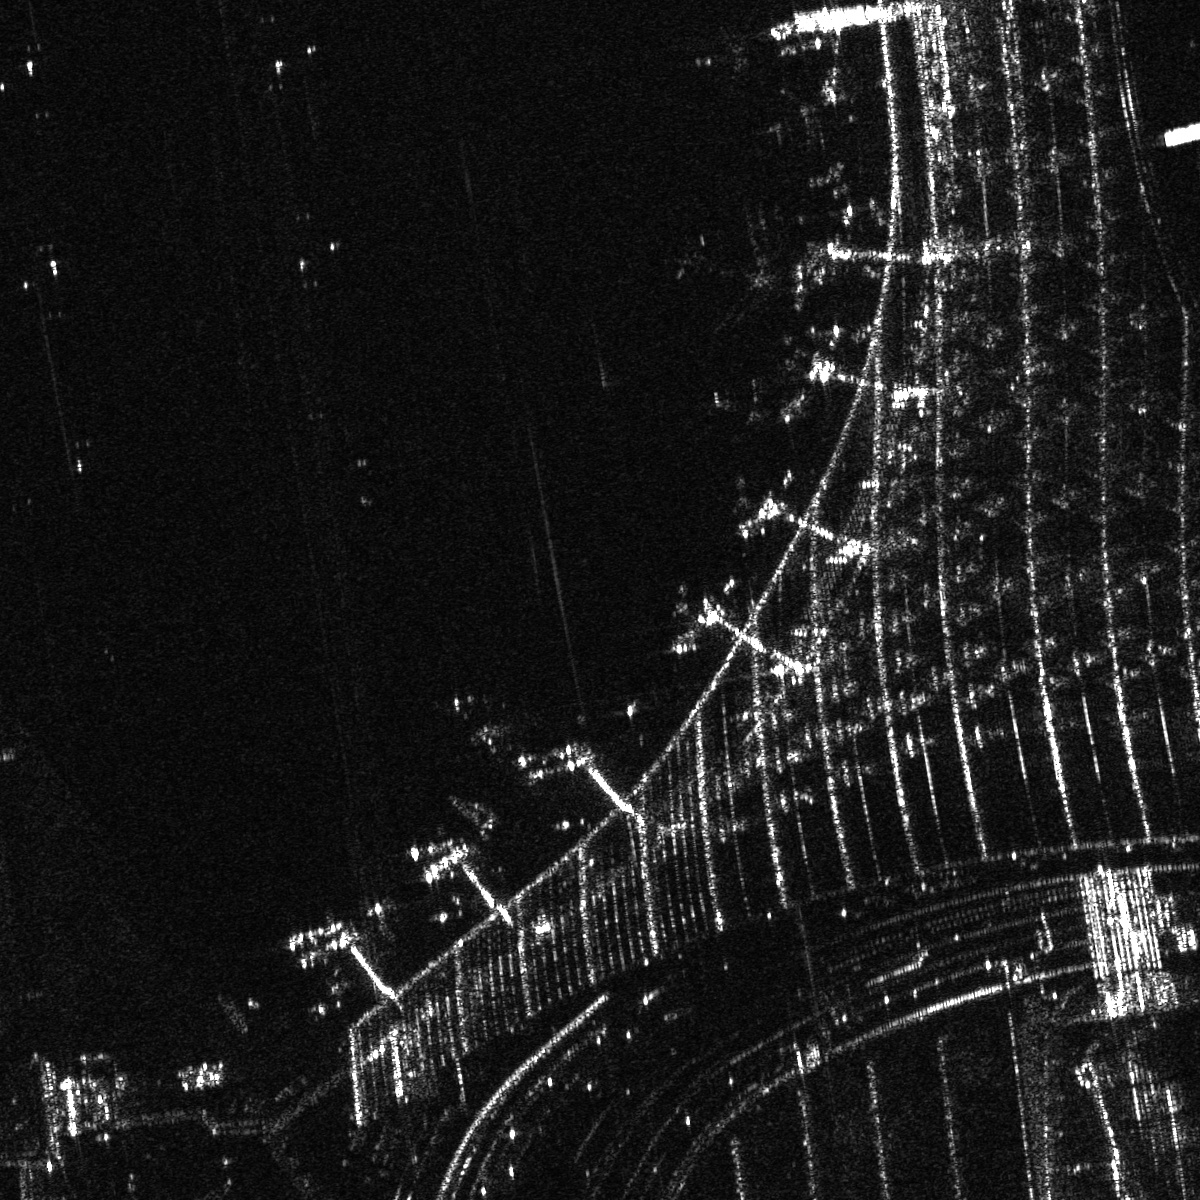A220: (713, 376, 777, 427)
Boeing787: (695, 23, 756, 84), (765, 86, 823, 149)
other: (674, 205, 789, 335)
